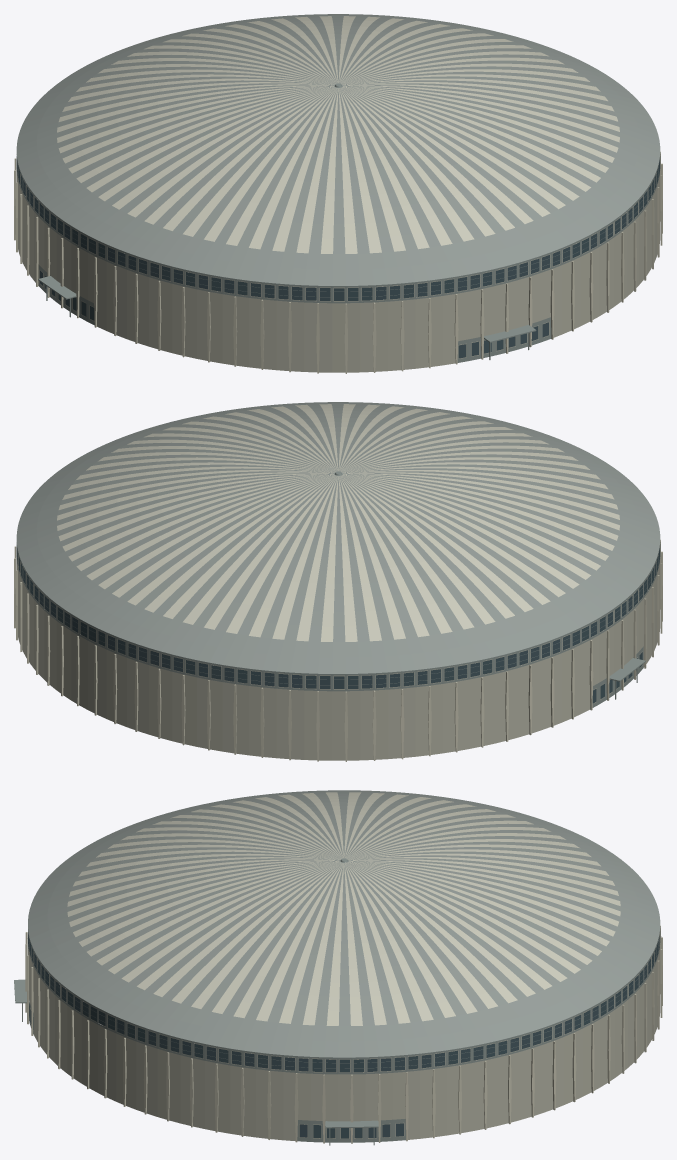
Rendered from astrodome-near.glb.
3 views of the same model, one above another, from view 1: azimuth 30°, elevation 25°; view 2: azimuth 150°, elevation 25°; view 3: azimuth 270°, elevation 25° (orthographic).
Visible parts, largest first — view 1: astrodome-0-roof, astrodome-0-roofWhite, astrodome-0-stone, astrodome-0-trim, astrodome-0-metal, astrodome-0-glass; view 2: astrodome-0-roof, astrodome-0-roofWhite, astrodome-0-stone, astrodome-0-trim, astrodome-0-glass, astrodome-0-metal; view 3: astrodome-0-roof, astrodome-0-roofWhite, astrodome-0-stone, astrodome-0-trim, astrodome-0-metal, astrodome-0-glass.
Boxes of the visible parts, x1,y1,x2,y2 form: astrodome-0-roof: (16,14,660,285); astrodome-0-roofWhite: (57,16,619,253); astrodome-0-stone: (16,171,660,372); astrodome-0-trim: (14,151,662,373); astrodome-0-metal: (16,83,660,362); astrodome-0-glass: (16,156,660,358); astrodome-0-roof: (16,402,660,673); astrodome-0-roofWhite: (57,404,619,641); astrodome-0-stone: (16,559,660,760); astrodome-0-trim: (14,539,662,761); astrodome-0-glass: (16,544,660,703); astrodome-0-metal: (16,471,660,709); astrodome-0-roof: (28,790,660,1057); astrodome-0-roofWhite: (67,792,620,1025); astrodome-0-stone: (28,945,660,1141); astrodome-0-trim: (25,925,662,1143); astrodome-0-metal: (14,858,660,1145); astrodome-0-glass: (28,930,660,1138).
Bounding box in the file's own units: 223 × 55.78 × 220.
